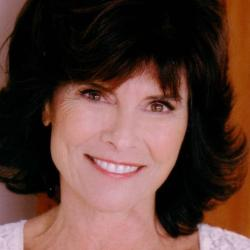face: (2, 2, 240, 233)
